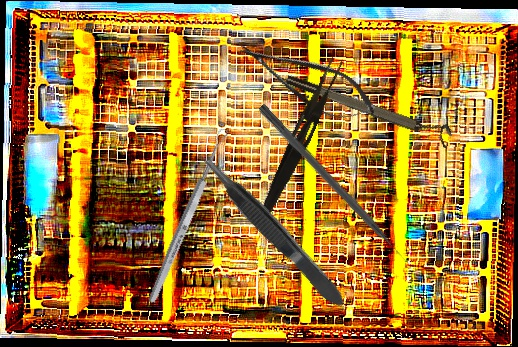Dressing Forceps: (254, 54, 344, 230)
Fixation Ring: (284, 65, 455, 149)
Micro Scissor: (230, 27, 384, 135)
Pusher: (255, 102, 413, 270)
Surgical Spoon: (145, 127, 231, 305)
Tissue Forceps: (192, 144, 351, 315)
